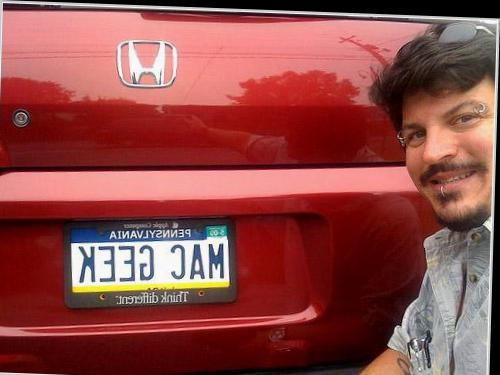License_Plate: (59, 206, 242, 323)
